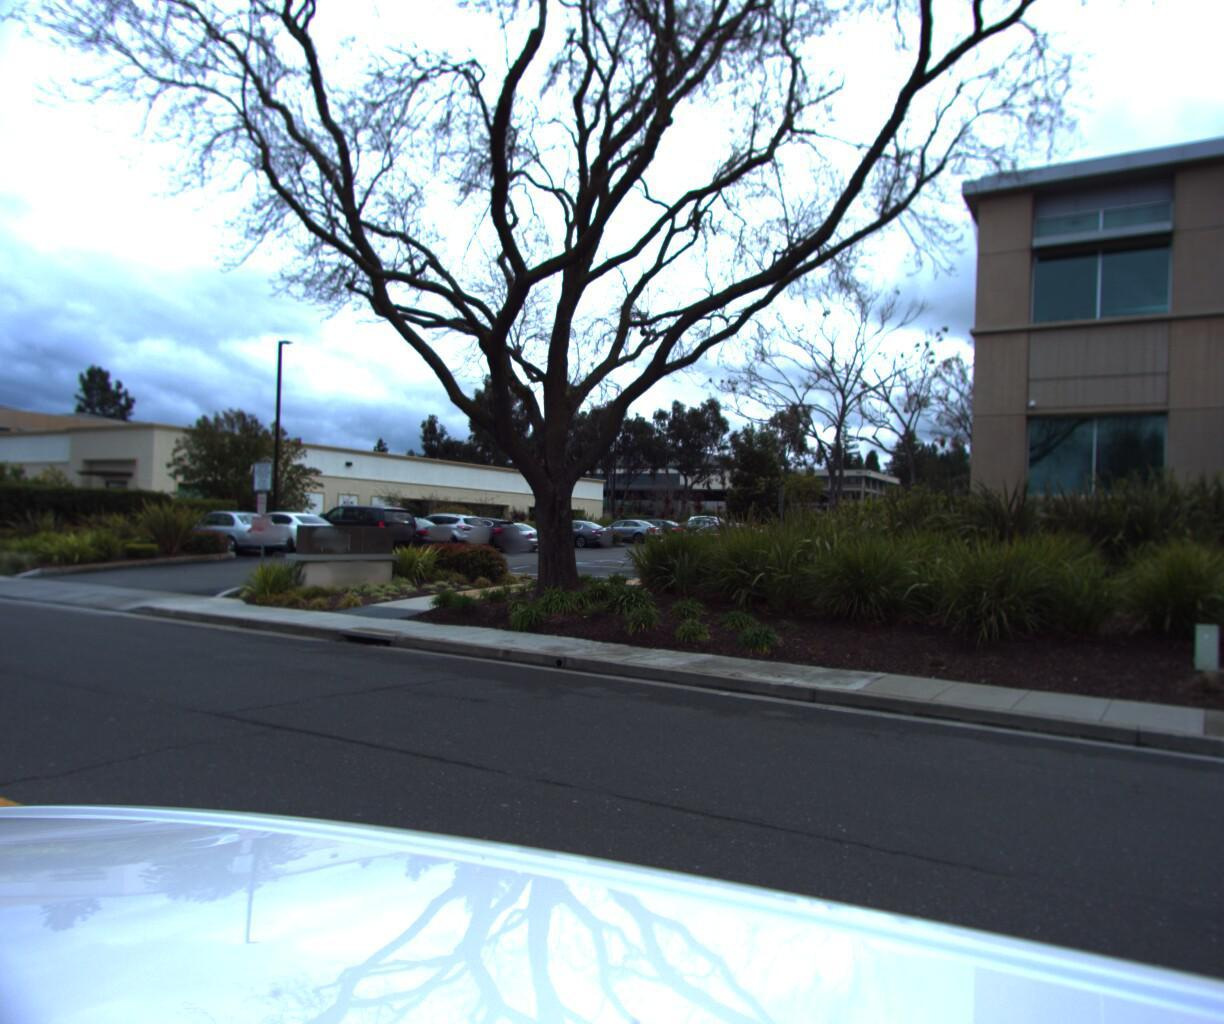car: (166, 492, 294, 558)
